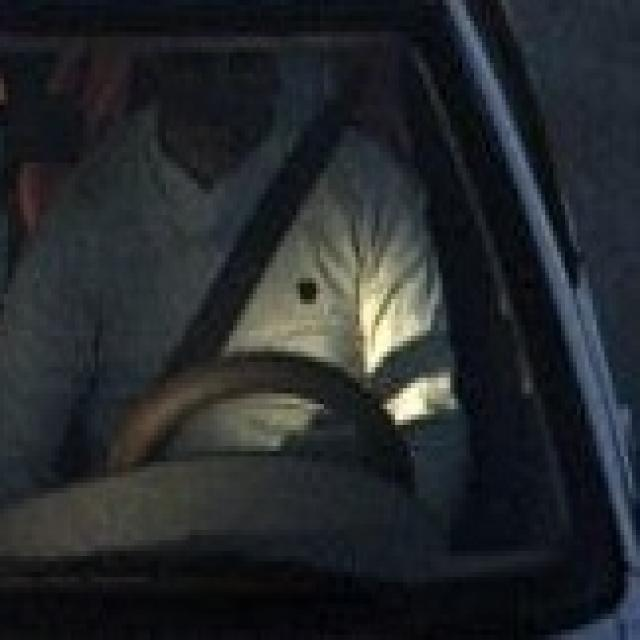seatbelt: (162, 68, 364, 352)
